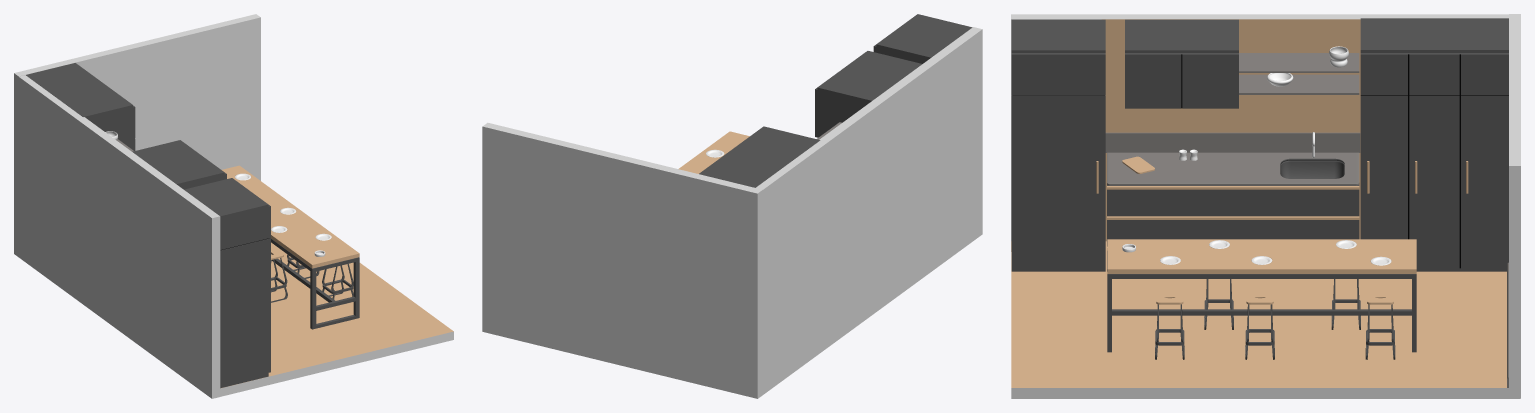
The model's file is kitchen.fbx.
The picture shows the model from 3 angles, left to right: view 1: azimuth 30°, elevation 25°; view 2: azimuth 150°, elevation 25°; view 3: azimuth 270°, elevation 25°; orthographic projection. The views are drawn at different scales.
Visible parts, largest first — view 1: ROOM, fridge, Cube.001, cupboard_big, cupboard_up, chair, chair.003; view 2: ROOM, cupboard_up, cupboard_big, fridge, Cube.001; view 3: ROOM, cupboard_big, fridge, cupboard_down, Cube.001, cupboard_up, board, shelf_down, shelf_up, chair, chair.002, chair.001.
Part boxes in pixels (box(x1,y1,x2,y2)): ROOM: box(14, 14, 453, 398); fridge: box(184, 178, 270, 388); Cube.001: box(222, 165, 359, 329); cupboard_big: box(26, 63, 135, 150); cupboard_up: box(132, 140, 226, 189); chair: box(322, 264, 353, 299); chair.003: box(271, 248, 287, 302); ROOM: box(482, 27, 982, 398); cupboard_up: box(815, 51, 922, 137); cupboard_big: box(699, 126, 820, 187); fridge: box(873, 14, 972, 63); Cube.001: box(678, 131, 749, 173); ROOM: box(1011, 14, 1520, 398); cupboard_big: box(1360, 18, 1508, 271); fridge: box(1011, 19, 1105, 271); cupboard_down: box(1107, 152, 1359, 271); Cube.001: box(1107, 239, 1416, 352); cupboard_up: box(1125, 19, 1238, 108); board: box(1105, 132, 1360, 152); shelf_down: box(1239, 74, 1359, 94); shelf_up: box(1239, 53, 1359, 72); chair: box(1155, 292, 1184, 359); chair.002: box(1365, 292, 1395, 359); chair.001: box(1245, 292, 1274, 359).
Bounding box in the file's own units: 601 × 429 × 851.
